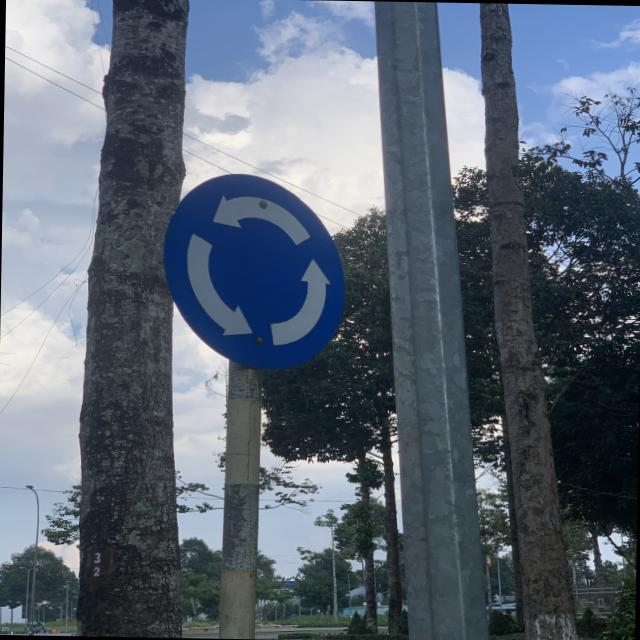Xe_Bus: (161, 172, 348, 372)
